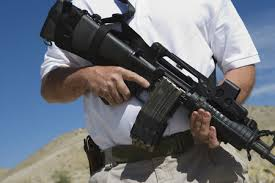rifle: (42, 1, 274, 162)
